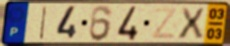4: (55, 5, 81, 43), (115, 5, 140, 42)
6: (88, 4, 113, 43)
I: (38, 5, 49, 41)
X: (176, 7, 206, 41)
Z: (150, 6, 179, 40)
